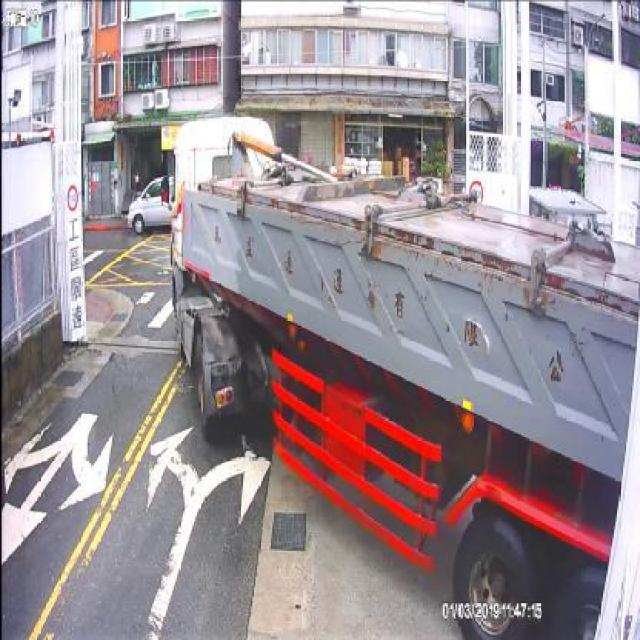dump_truck: (158, 112, 638, 640)
